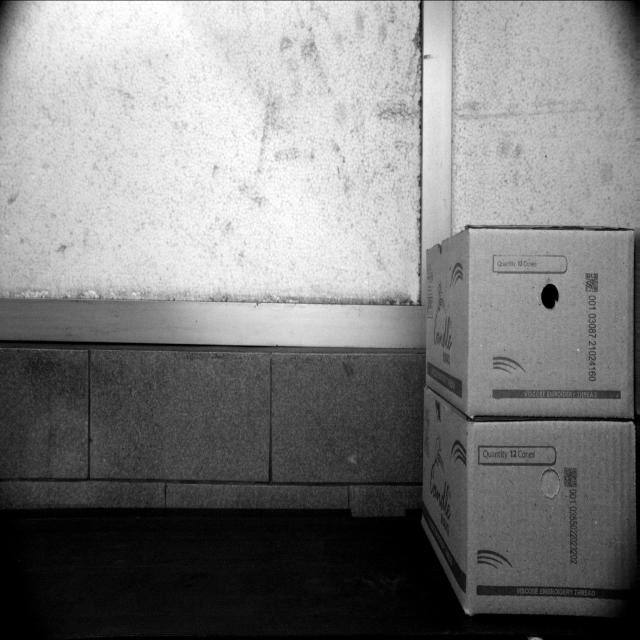cardboxes: (466, 225, 638, 417), (468, 424, 636, 608)
